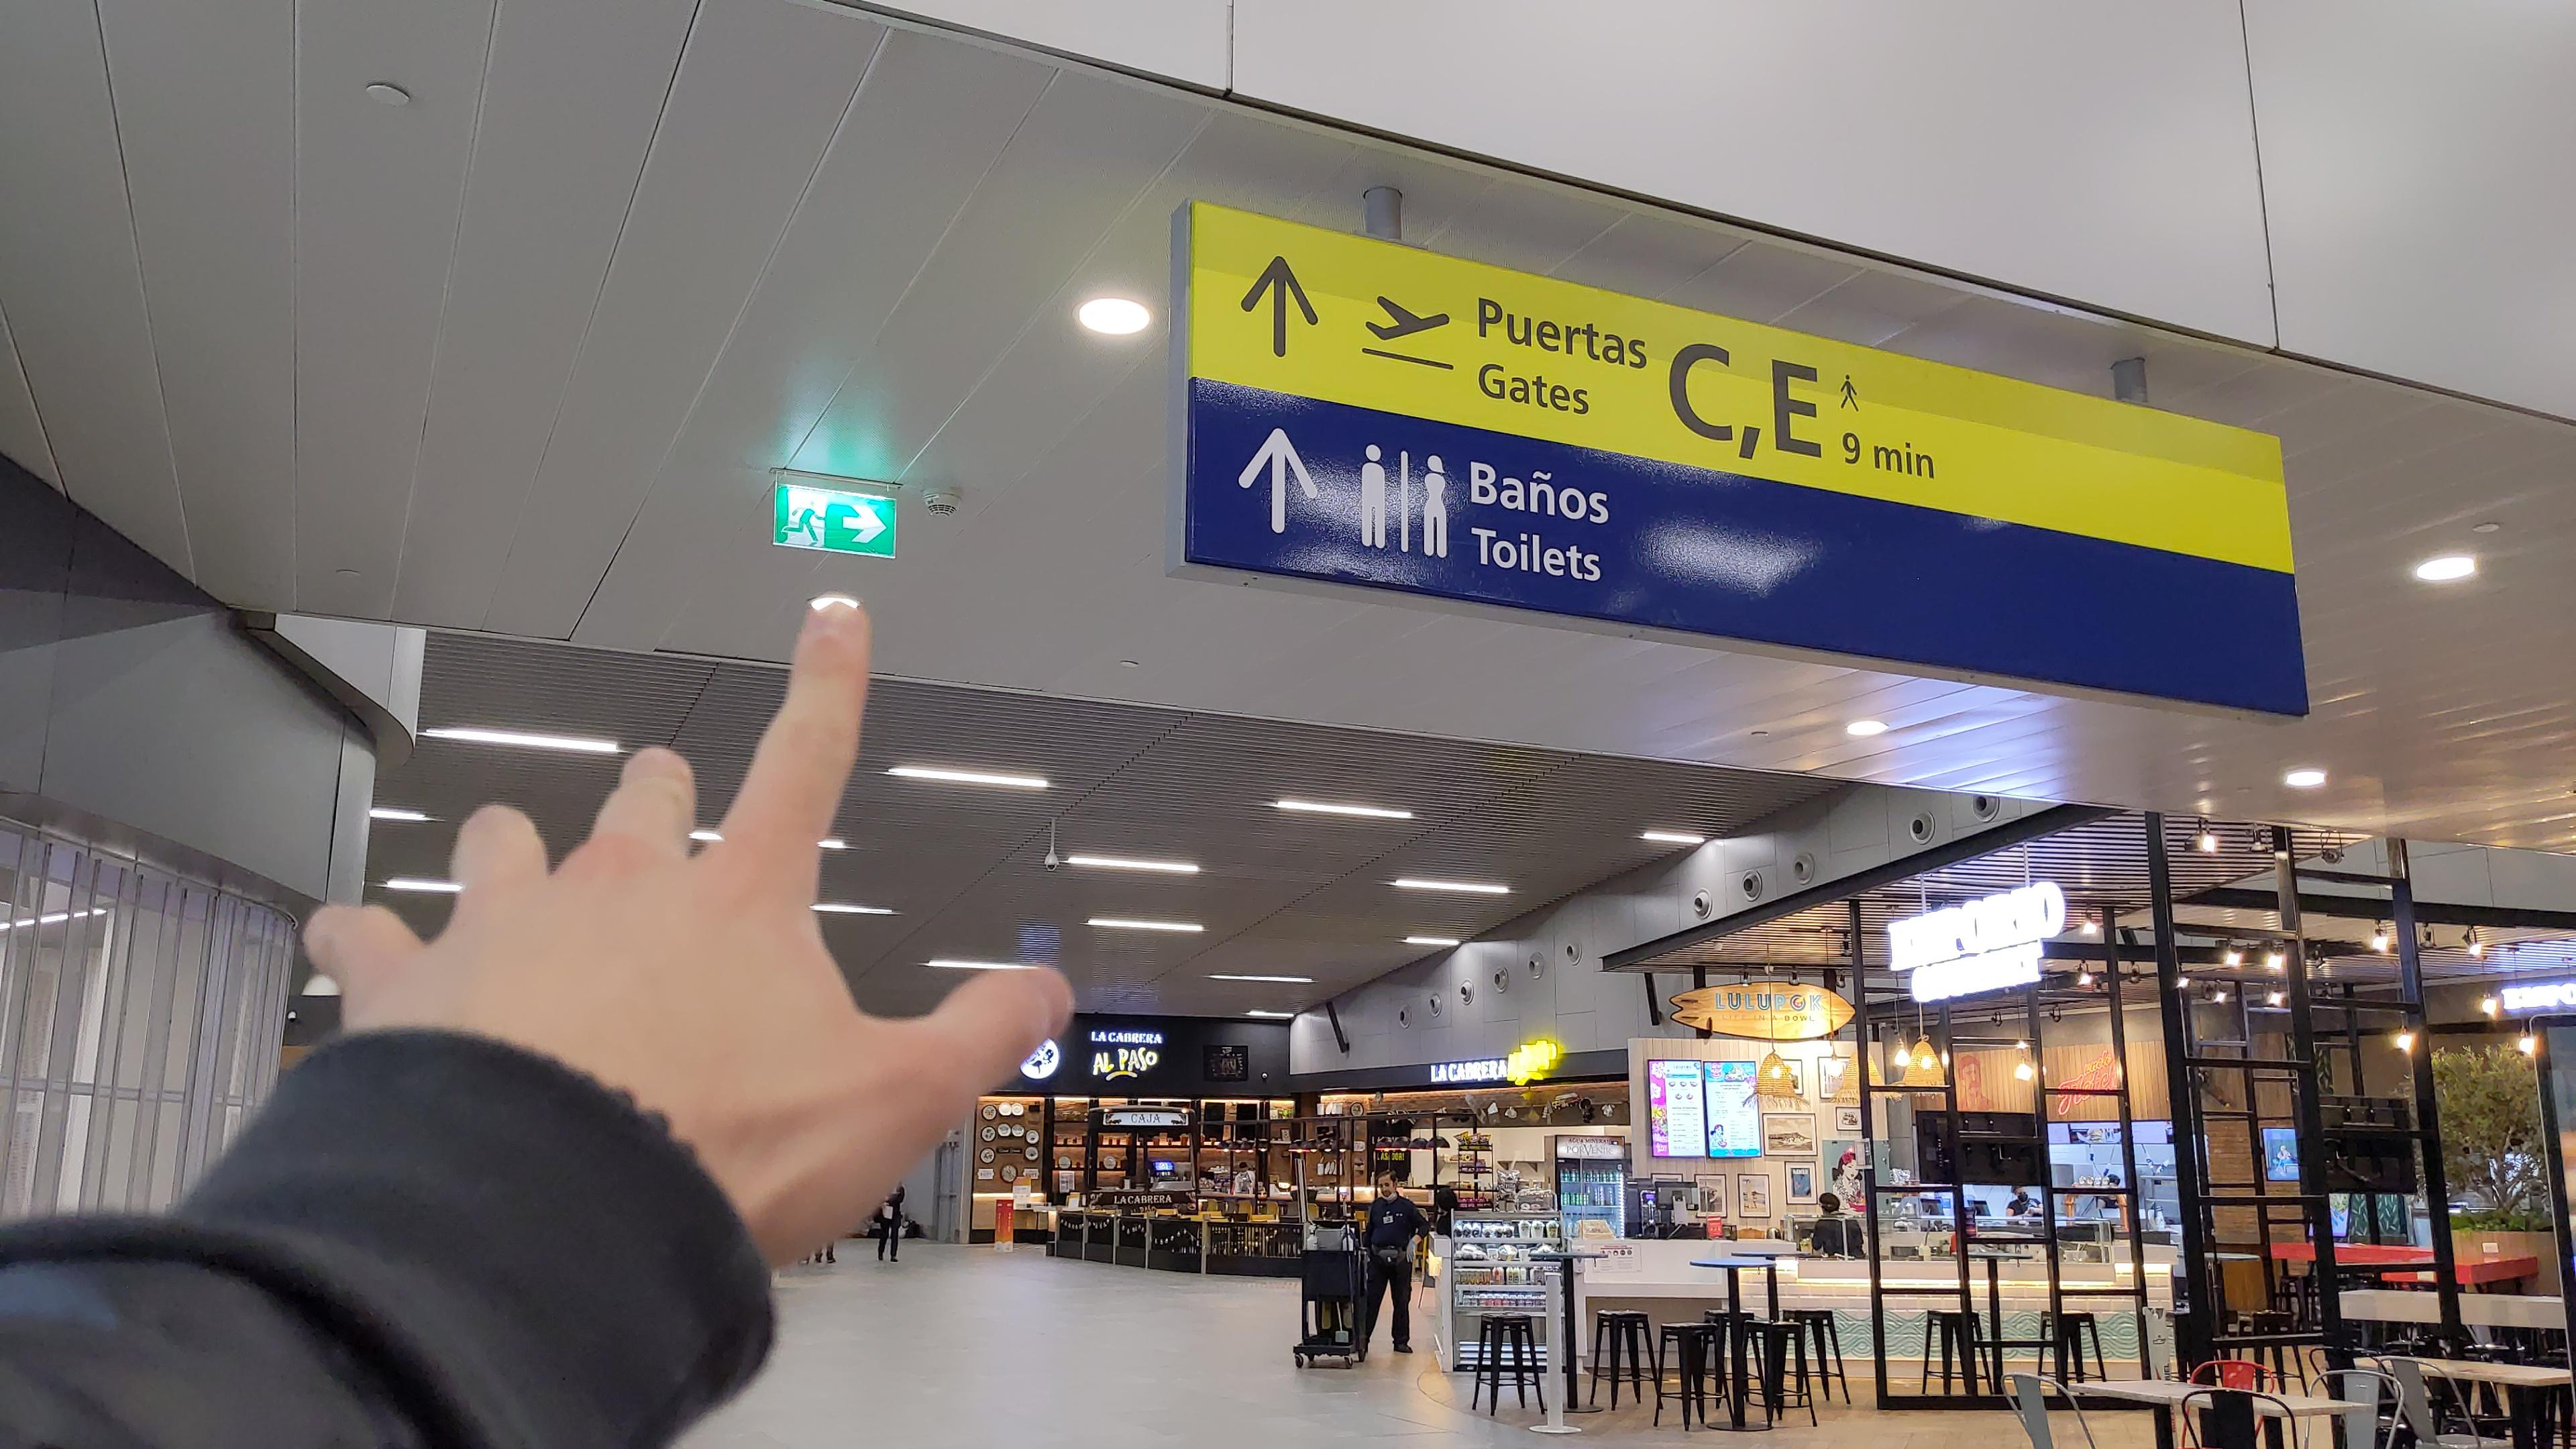airplane symbol: (1361, 292, 1463, 343)
bathrooms: (1355, 441, 1451, 564)
emergency exit: (780, 495, 830, 545)
emergency right arrow: (840, 501, 890, 545)
thin up arrow: (1233, 423, 1323, 540), (1237, 251, 1323, 364)
